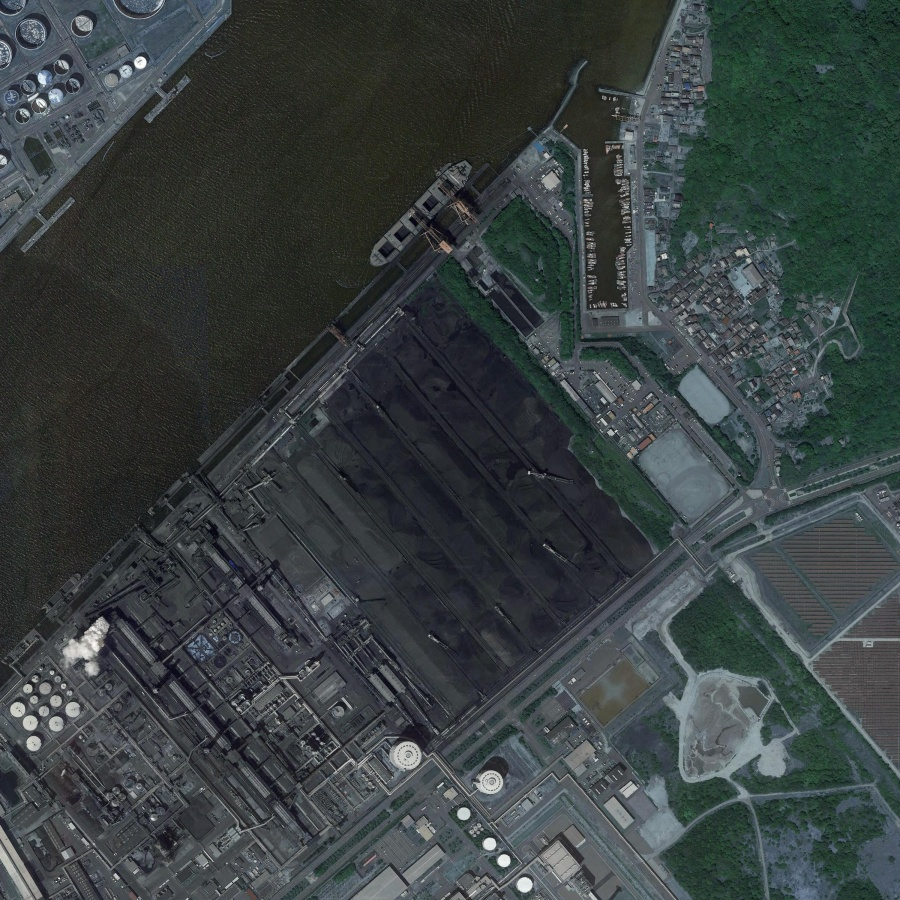PowerPlant: (280, 288, 667, 682)
